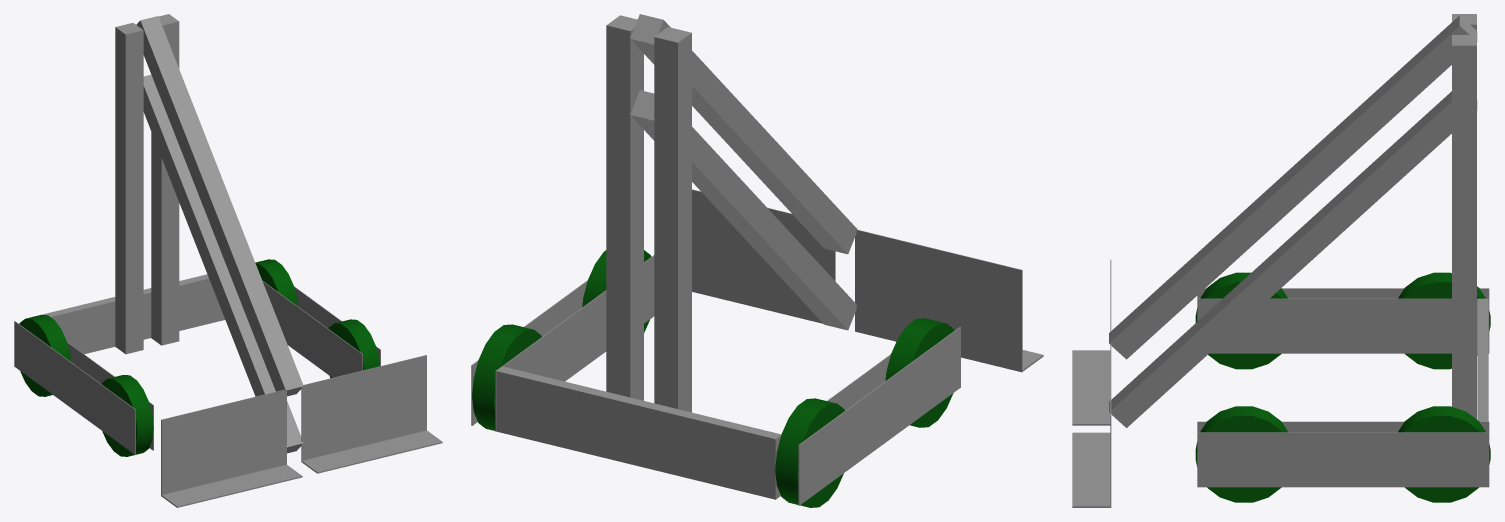
File: SimpleClawbot.fbx
3 views of the same model, side by side, from view 1: azimuth 30°, elevation 25°; view 2: azimuth 150°, elevation 25°; view 3: azimuth 270°, elevation 25° (orthographic). The views are drawn at different scales.
Visible parts, largest first — view 1: Box010, Box011, Box009, Box007, Box008, Box006, Box004, Box002, Box005, Cylinder003, Cylinder004, Cylinder001 (+3 smaller); view 2: Box002, Box010, Box007, Box006, Box004, Box009, Box008, Box011, Box005, Cylinder004, Cylinder002, Cylinder003 (+3 smaller); view 3: Box003, Box009, Box008, Box001, Box006, Box011, Box010, Cylinder001, Cylinder002, Cylinder004, Cylinder003, Box002 (+2 smaller).
Boxes of the visible parts, <box> form: Box010: <box>161,389,302,507</box>; Box011: <box>301,355,442,473</box>; Box009: <box>136,16,303,396</box>; Box007: <box>115,23,143,354</box>; Box008: <box>143,75,303,453</box>; Box006: <box>151,14,179,345</box>; Box004: <box>14,321,135,454</box>; Box002: <box>42,274,225,354</box>; Box005: <box>262,281,362,377</box>; Cylinder003: <box>101,375,153,456</box>; Cylinder004: <box>19,314,70,396</box>; Cylinder001: <box>328,319,379,378</box>; Box002: <box>496,366,780,499</box>; Box010: <box>855,229,1043,372</box>; Box007: <box>654,27,691,412</box>; Box006: <box>606,15,643,400</box>; Box004: <box>798,327,960,505</box>; Box009: <box>630,14,857,254</box>; Box008: <box>630,90,856,330</box>; Box011: <box>692,189,835,323</box>; Box005: <box>495,255,654,431</box>; Cylinder004: <box>775,398,844,507</box>; Cylinder002: <box>472,324,541,430</box>; Cylinder003: <box>885,318,954,427</box>; Box003: <box>1197,432,1489,487</box>; Box009: <box>1109,15,1477,359</box>; Box008: <box>1109,91,1477,427</box>; Box001: <box>1197,298,1489,353</box>; Box006: <box>1452,35,1476,419</box>; Box011: <box>1072,343,1111,507</box>; Box010: <box>1072,259,1111,425</box>; Cylinder001: <box>1195,406,1287,502</box>; Cylinder002: <box>1398,406,1490,502</box>; Cylinder004: <box>1398,272,1490,369</box>; Cylinder003: <box>1195,272,1287,369</box>; Box002: <box>1477,299,1488,432</box>.
Size of the model in its own units: 0.3857 by 0.473 by 0.4367.
